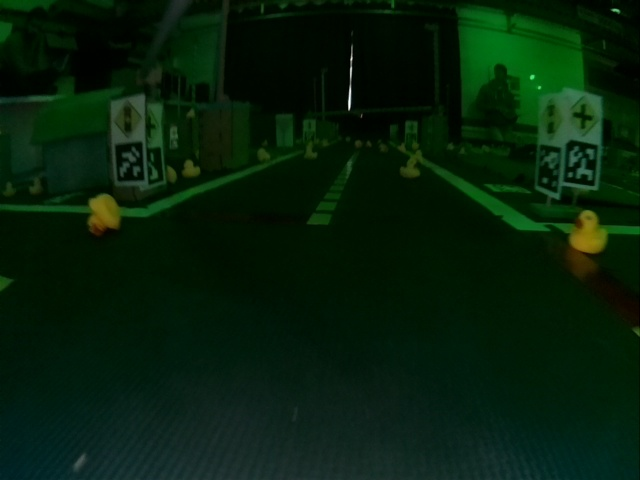Duckie: (571, 211, 605, 255), (86, 194, 121, 234), (400, 158, 420, 178), (182, 161, 200, 177), (256, 150, 269, 161), (303, 147, 317, 157)
Intersection sign: (569, 96, 596, 135)
QR code: (565, 145, 597, 186), (536, 147, 559, 194), (118, 143, 144, 180)
Signal sign: (113, 100, 140, 138), (541, 100, 562, 139)
